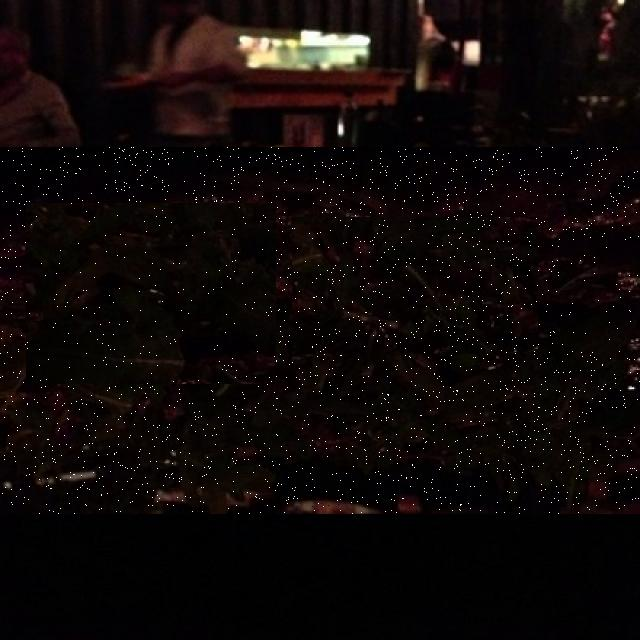Pizza: (0, 147, 640, 514)
Rucola: (26, 204, 276, 386), (292, 217, 538, 354), (561, 240, 640, 352)
